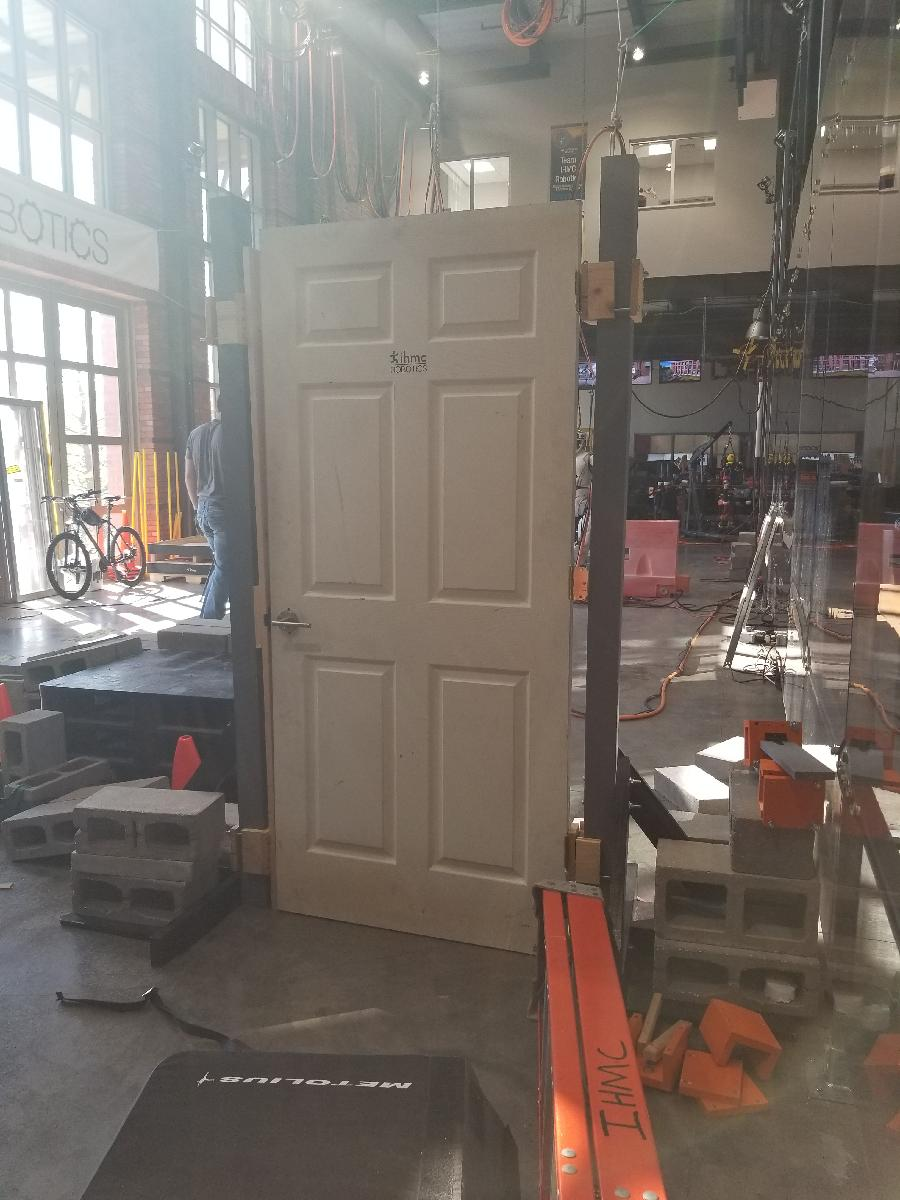door: (256, 196, 589, 963)
doorHandle: (268, 606, 317, 645)
